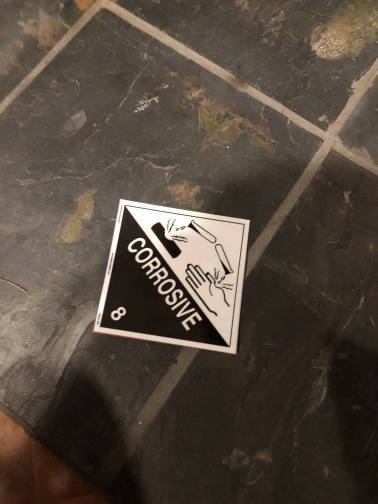Corrosive: (96, 199, 245, 356)
